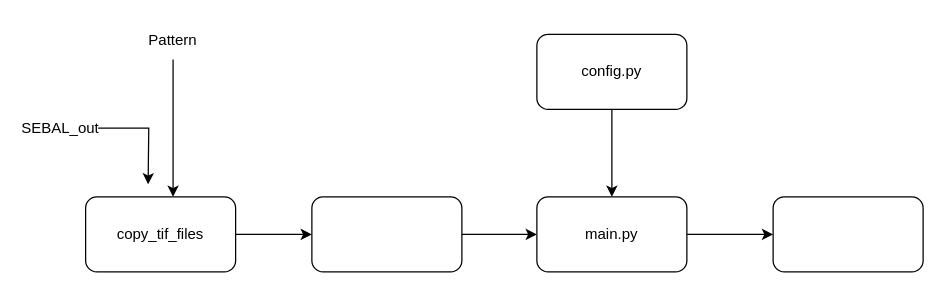
This 945x294 diagram has some shape labels left out. Here are the shapes that lost their labels. From the top down, the centre of each, then its label:
the point at 386,234: reproject.R
the point at 847,234: plotting.py
